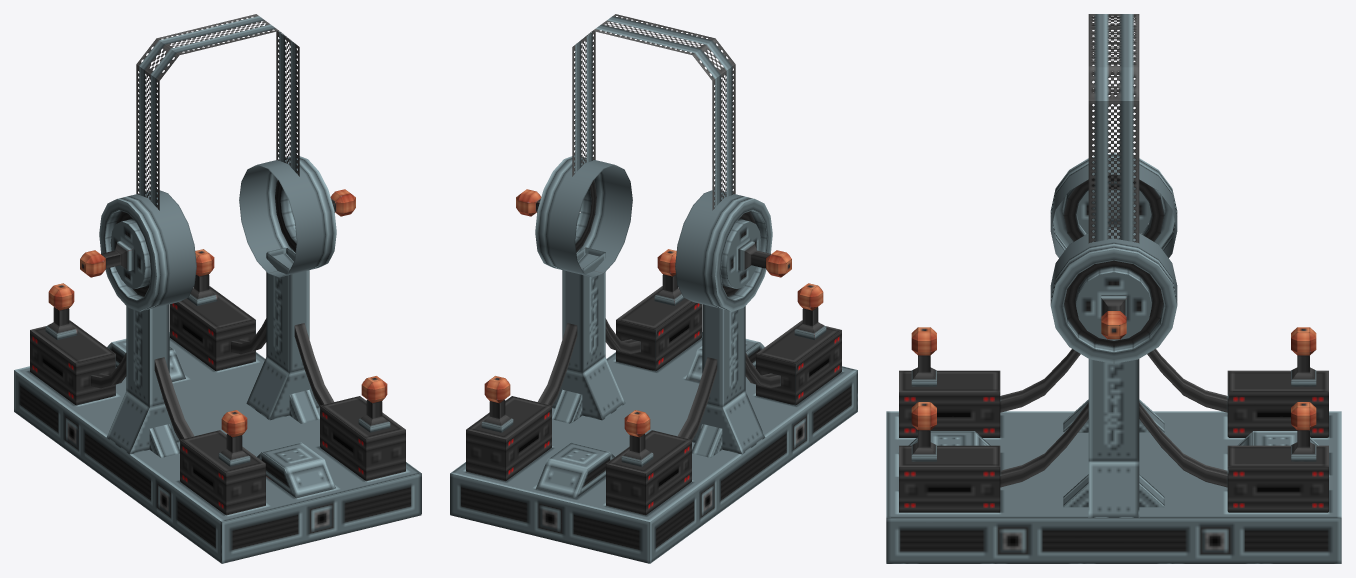
The model's file is fensu2_base.obj.
3 views of the same model, side by side, from view 1: azimuth 30°, elevation 25°; view 2: azimuth 150°, elevation 25°; view 3: azimuth 270°, elevation 25° (orthographic). The views are drawn at different scales.
Parts seen in each view (by area): view 1: Base; view 2: Base; view 3: Base.
Part boxes in pixels (left/top/right/bottom): Base: left=14, top=14, right=421, bottom=563; Base: left=450, top=14, right=857, bottom=563; Base: left=886, top=14, right=1341, bottom=563.
Bounding box in the file's own units: 6.75 × 10.25 × 9.
